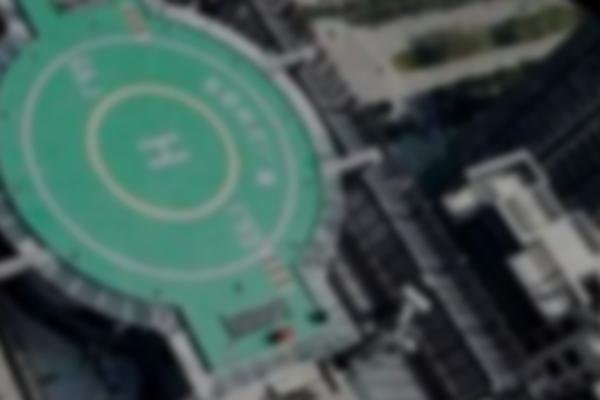Apron: (83, 80, 238, 220)
